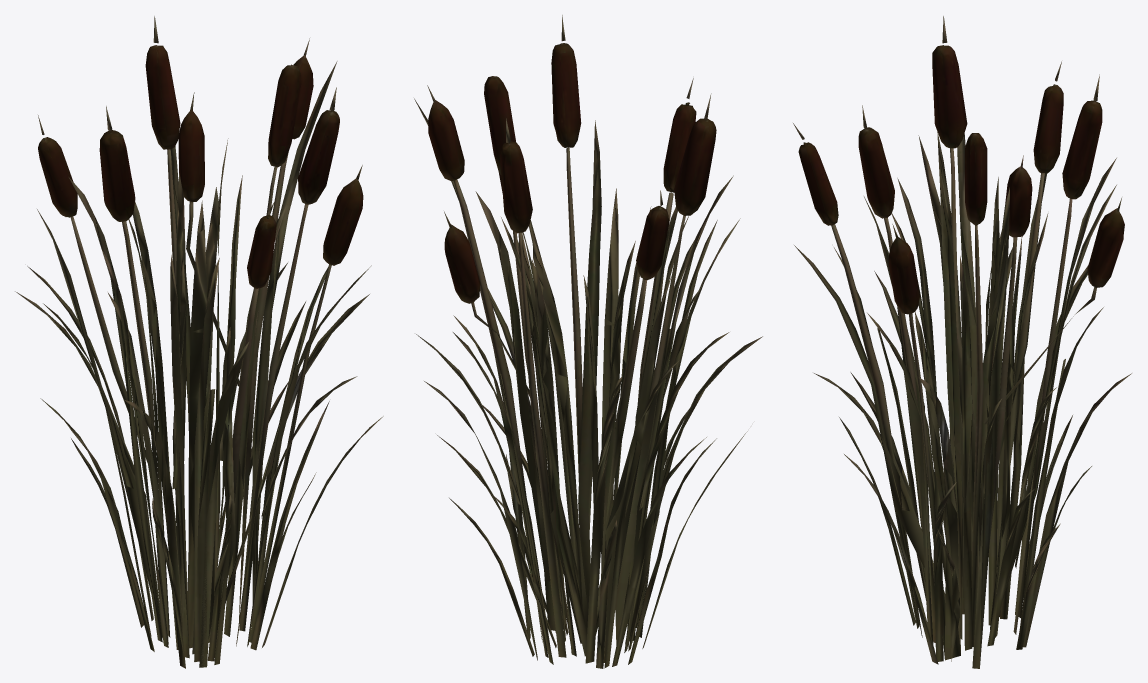
Rendered from reed.glb.
The picture shows the model from 3 angles, left to right: view 1: azimuth 30°, elevation 25°; view 2: azimuth 150°, elevation 25°; view 3: azimuth 270°, elevation 25°; orthographic projection.
Parts seen in each view (by area): view 1: model; view 2: model; view 3: model.
Boxes of the visible parts, x1,y1,x2,y2 form: model: (15,16,383,668); model: (414,15,762,668); model: (793,16,1131,668).
Bounding box in the file's own units: 0.5773 × 1 × 0.5342.
Materials: 1 (1 with a texture image).
